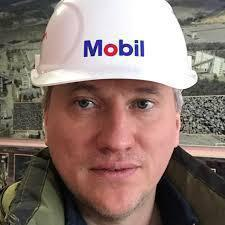helmet: (30, 0, 198, 91)
